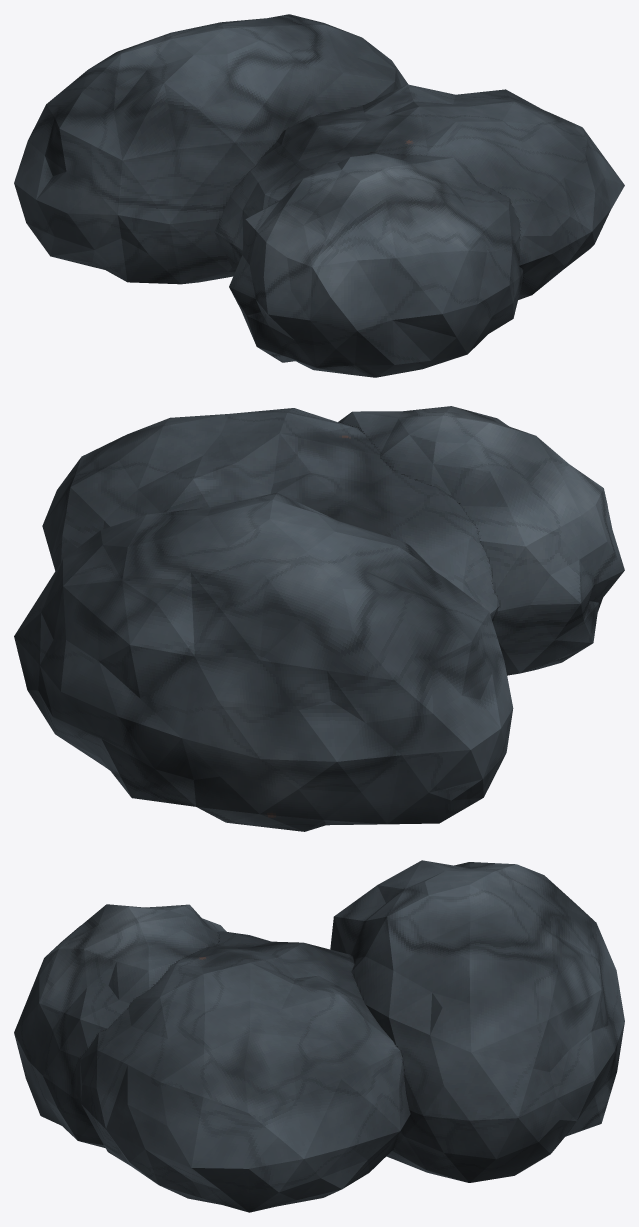
File: ramp_snow_rock_small_a.glb
The picture shows the model from 3 angles, top to bottom: view 1: azimuth 30°, elevation 25°; view 2: azimuth 150°, elevation 25°; view 3: azimuth 270°, elevation 25°; orthographic projection. The views are drawn at different scales.
Visible parts, largest first — view 1: ramp_snow_rock_small_a; view 2: ramp_snow_rock_small_a; view 3: ramp_snow_rock_small_a.
Boxes of the visible parts, <box> form: ramp_snow_rock_small_a: <box>14,14,624,377</box>; ramp_snow_rock_small_a: <box>14,406,624,831</box>; ramp_snow_rock_small_a: <box>14,860,624,1212</box>.
Bounding box in the file's own units: 0.7279 × 0.3076 × 0.7722.
Materials: 1 (1 with a texture image).
